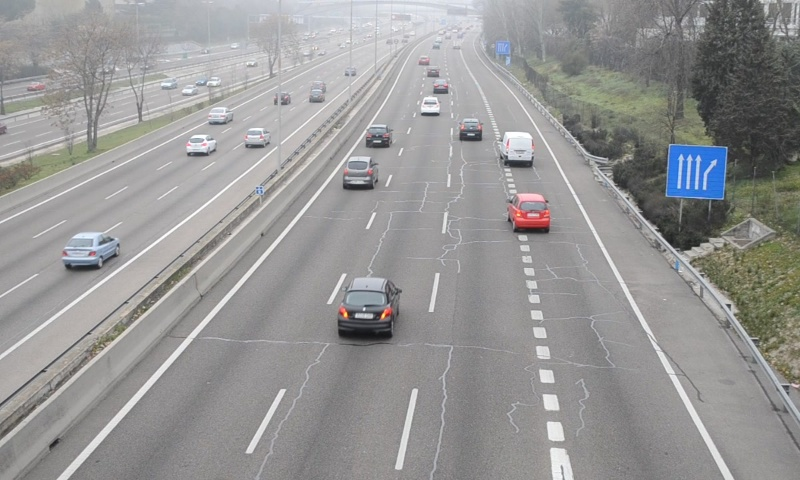car: (337, 278, 399, 334), (510, 192, 549, 230), (342, 156, 377, 186), (364, 124, 394, 149), (458, 118, 483, 141), (419, 94, 442, 115), (432, 78, 448, 92)
van: (502, 132, 534, 166)
